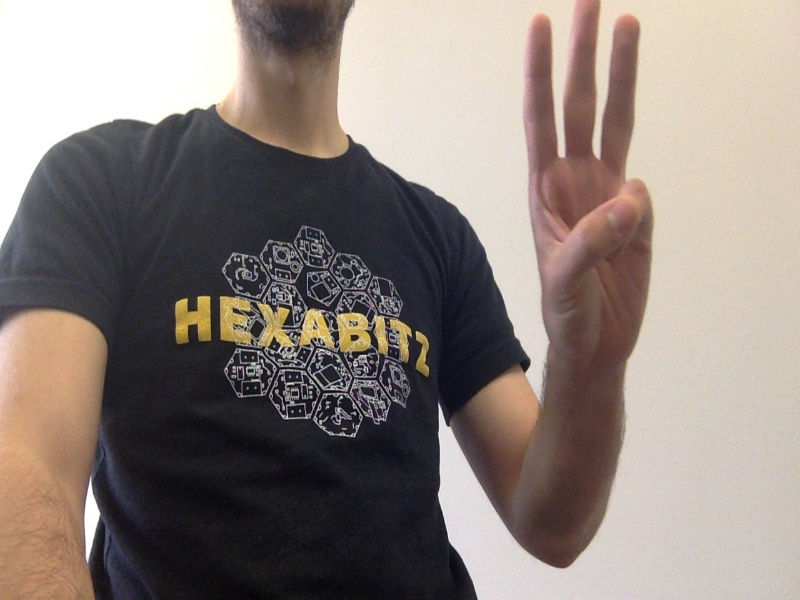3-hand: (525, 1, 653, 359)
